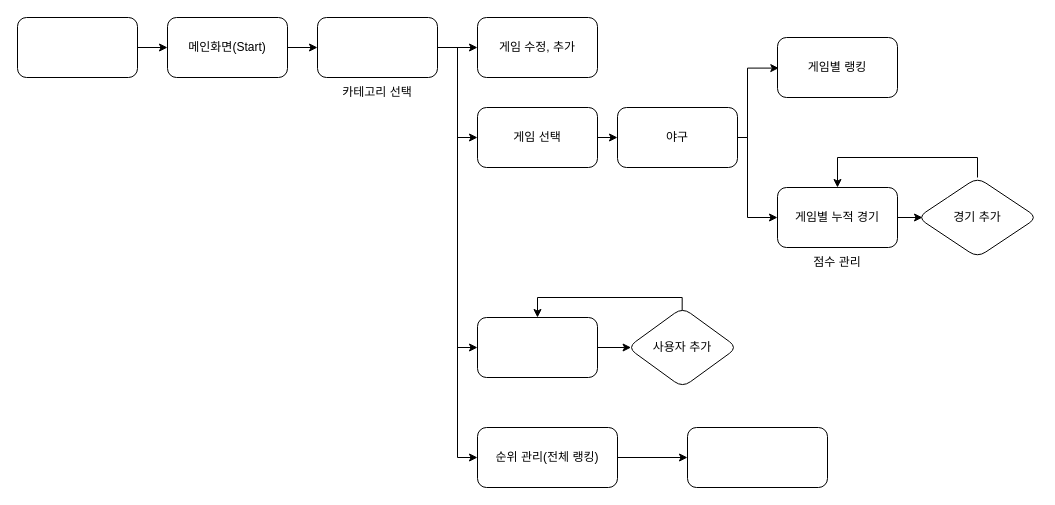
Some shapes in this 1055 by 505 pixel diagram are drawn without their labels. The centre of each missing label's shape, as x and y in pixels:
"메인화면(카테고리)" belongs at (x=377, y=47).
"사용자 관리 리스트" belongs at (x=537, y=347).
"스플래쉬" belongs at (x=77, y=47).
"아이디별로 점수 순위" belongs at (x=757, y=457).
